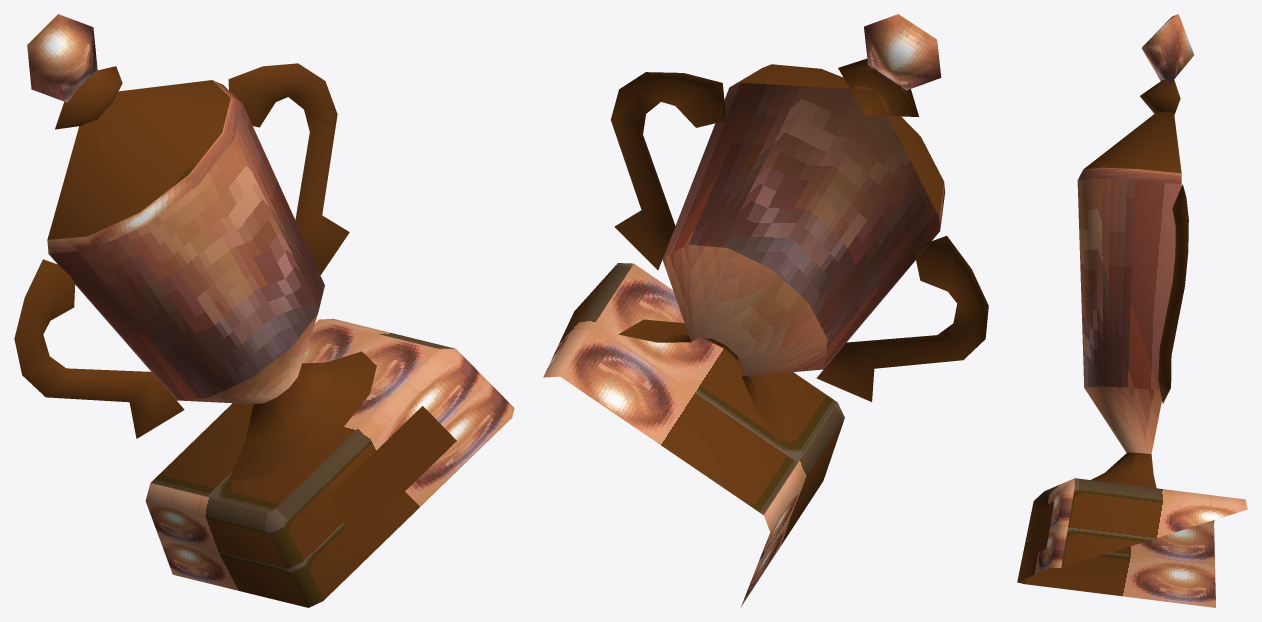
Rendered from fg_B_trophy.dae.
3 renders of one model, left to right at view 1: azimuth 30°, elevation 25°; view 2: azimuth 150°, elevation 25°; view 3: azimuth 270°, elevation 25°, orthographic. The views are drawn at different scales.
Parts seen in each view (by area): view 1: _0_0; view 2: _0_0; view 3: _0_0.
Part boxes in pixels (box(x1,y1,x2,y2)): _0_0: box(14, 14, 514, 607); _0_0: box(543, 14, 988, 606); _0_0: box(1017, 14, 1247, 607).
Size of the model in its own units: 22.06 by 28.13 by 10.98.
Materials: 1 (1 with a texture image).
